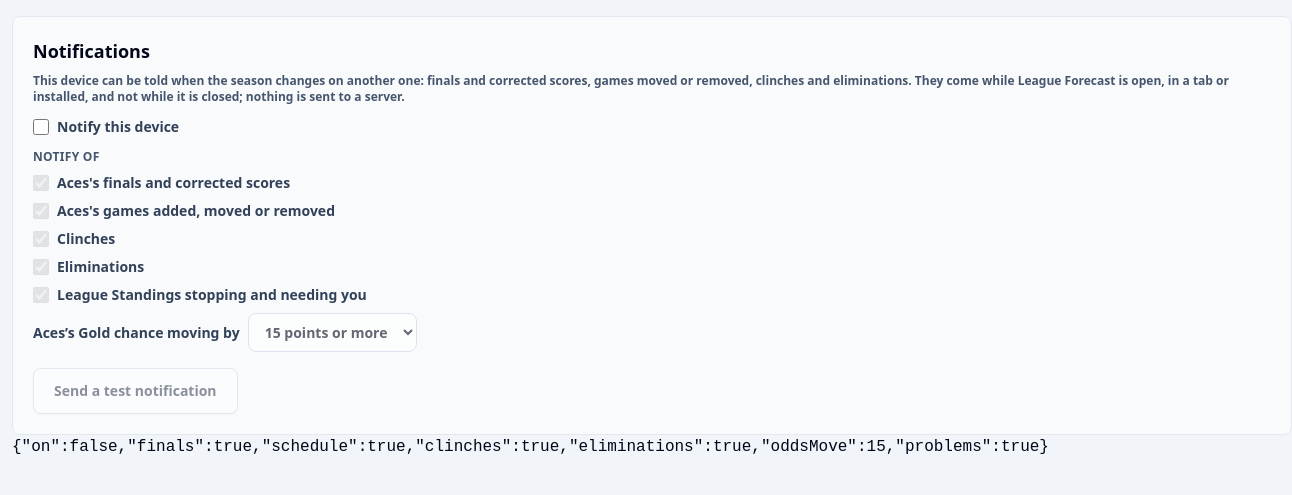
Test case: NotificationSettings › says so, and stays off, when the browser refuses
This screenshot has width=1292, height=495.
Click the checkbox labelled "Notify this device": (41, 127) [33,119,49,135]
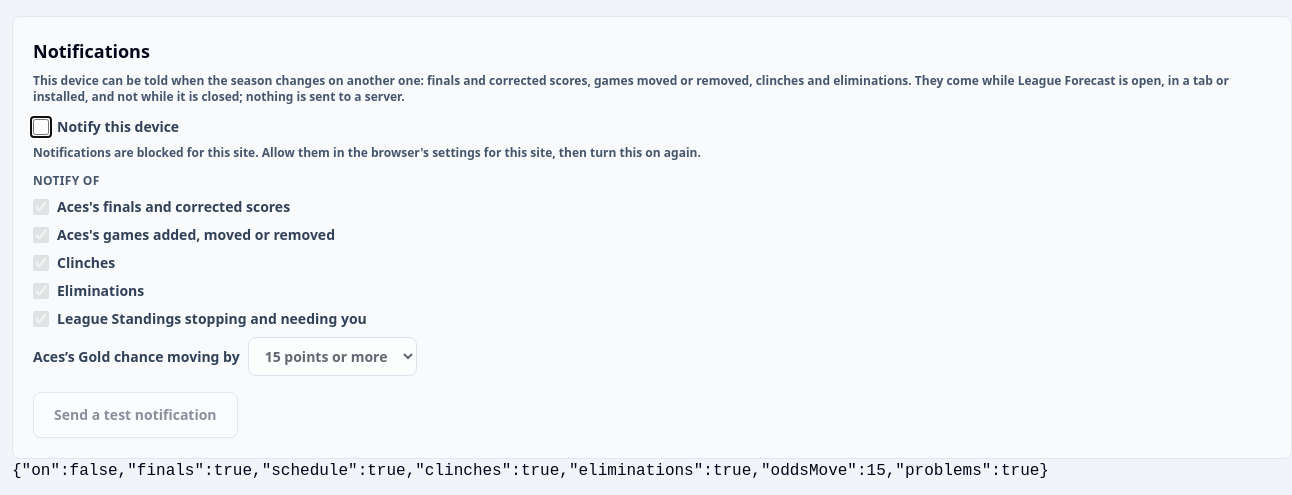
Result: the message shows "blocked for this site" at [33,144,701,161]
